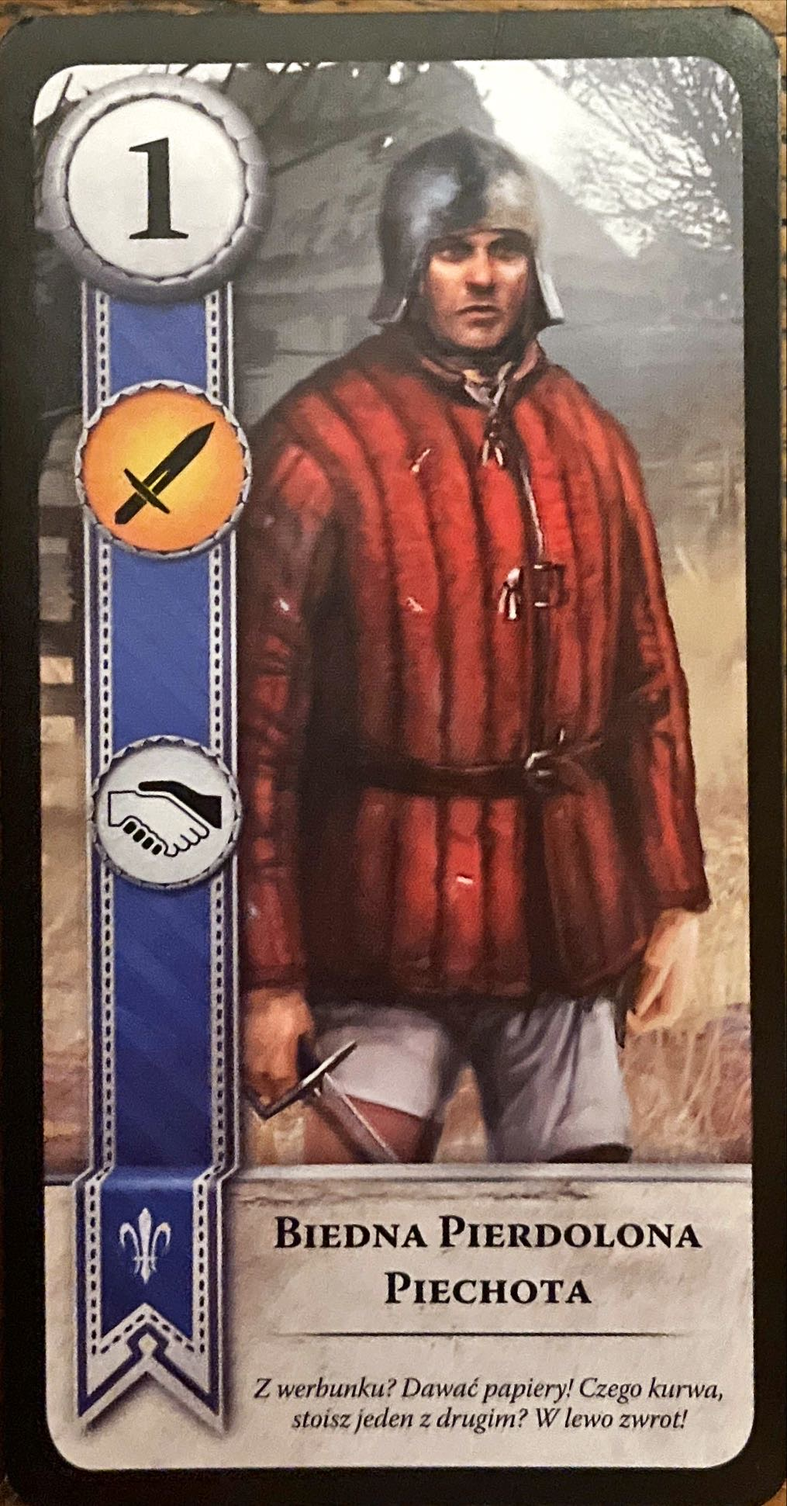1: (37, 73, 271, 301)
miecz: (71, 378, 251, 558)
wiez: (89, 736, 242, 888)
